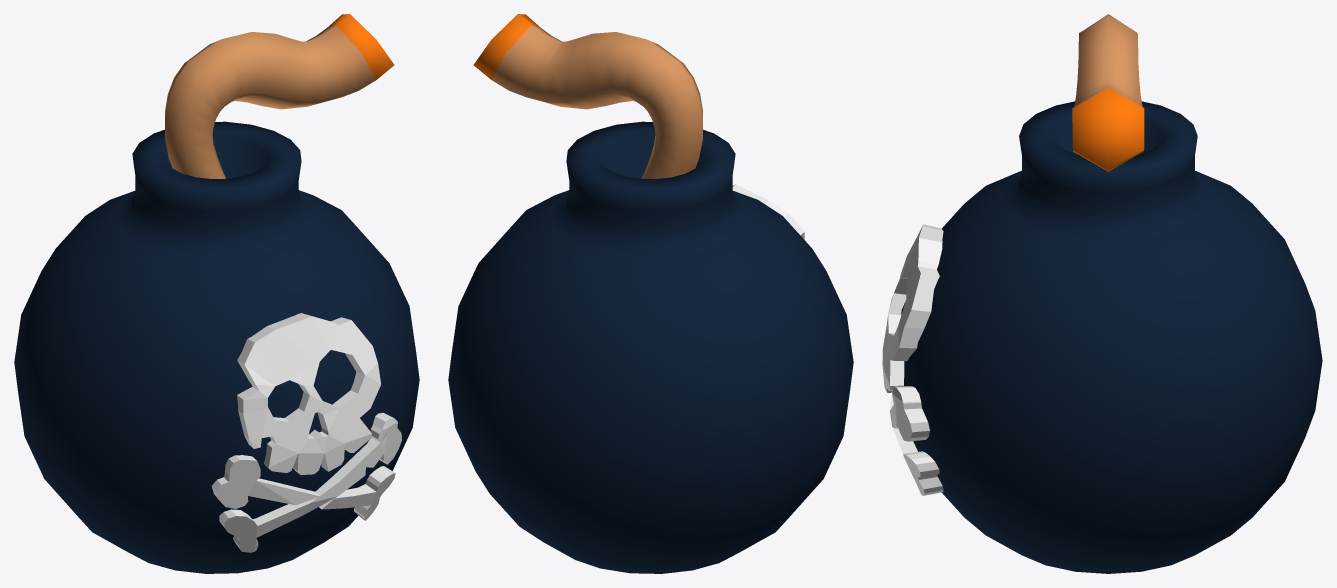
The model's file is Bomb_02.fbx.
The picture shows the model from 3 angles, left to right: view 1: azimuth 30°, elevation 25°; view 2: azimuth 150°, elevation 25°; view 3: azimuth 270°, elevation 25°; orthographic projection. The views are drawn at different scales.
Parts seen in each view (by area): view 1: Obstacle_Bomb_02; view 2: Obstacle_Bomb_02; view 3: Obstacle_Bomb_02.
Boxes of the visible parts, x1,y1,x2,y2 form: Obstacle_Bomb_02: [14, 14, 419, 573]; Obstacle_Bomb_02: [448, 14, 853, 573]; Obstacle_Bomb_02: [882, 14, 1322, 573].
Size of the model in its own units: 50 by 69.79 by 51.38.
Materials: 1 (1 with a texture image).
